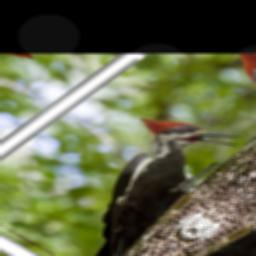Woodpecker: (6, 96, 256, 256)
